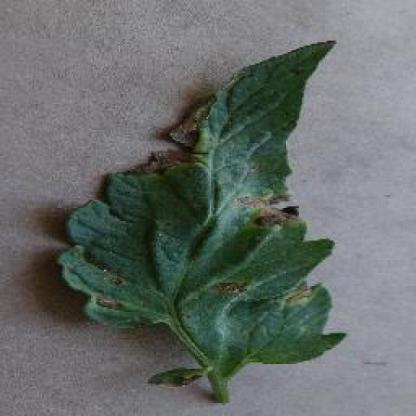Tomato_Blight: (59, 38, 346, 384)
